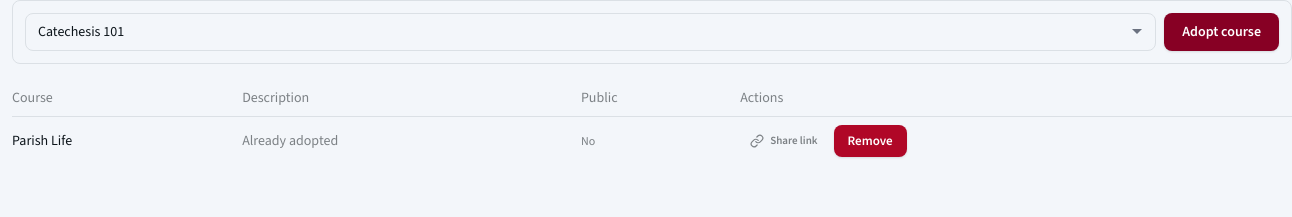
Test: ParishCourseAdoptionManager › shows error message when adoption request rejects
Step 1. Click the button "Adopt course" → x=1222, y=32, box x1=1164 y1=13 x2=1279 y2=51
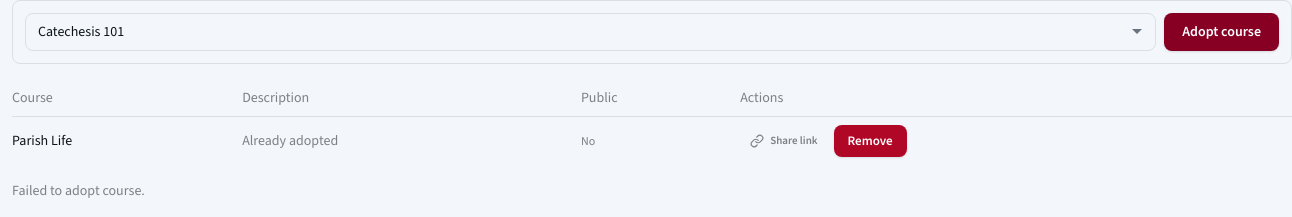
expect the text "Failed to adopt course." is shown: met, box x1=12 y1=181 x2=145 y2=200
